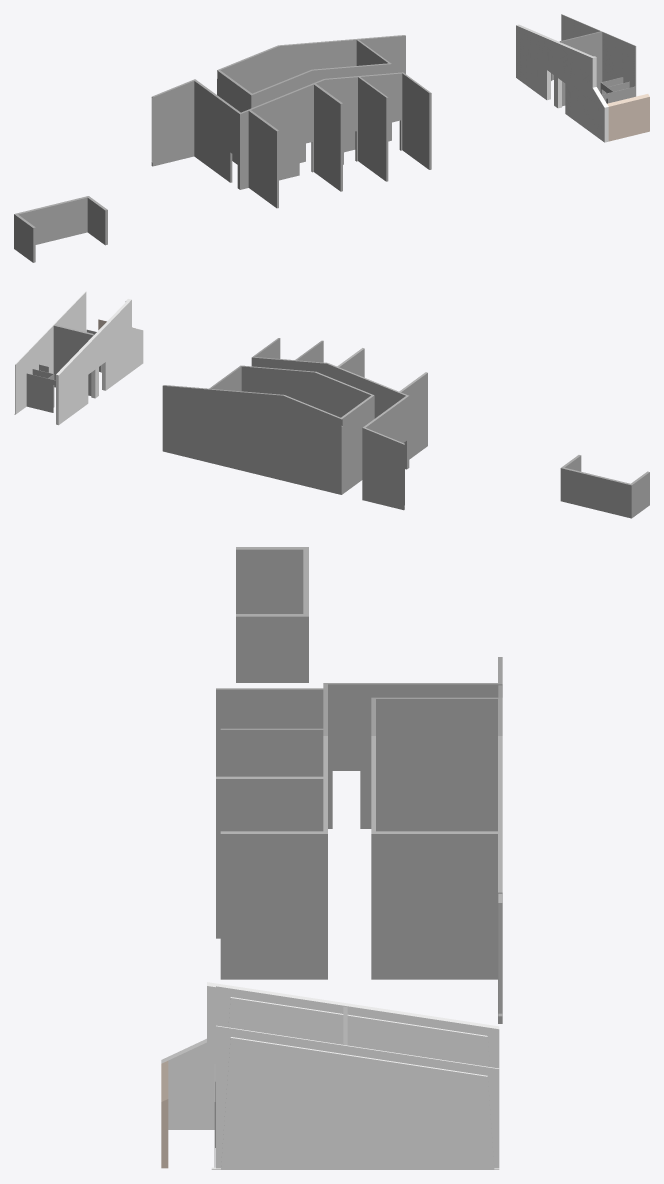
3 views of the same model, one above another, from view 1: azimuth 30°, elevation 25°; view 2: azimuth 150°, elevation 25°; view 3: azimuth 270°, elevation 25° (orthographic). The views are drawn at different scales.
Bounding box in the file's own units: 144 × 20.58 × 37.38.
